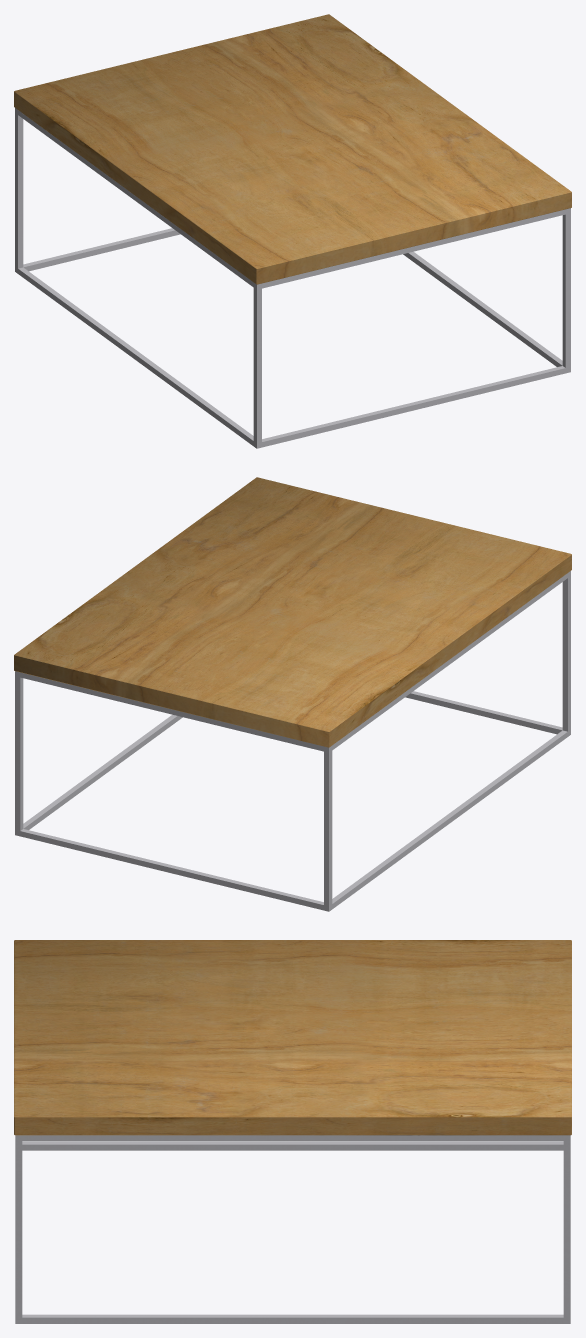
The model's file is table5.gltf.
3 renders of one model, top to bottom at view 1: azimuth 30°, elevation 25°; view 2: azimuth 150°, elevation 25°; view 3: azimuth 270°, elevation 25°, orthographic. The views are drawn at different scales.
Visible parts, largest first — view 1: Box001, Box005; view 2: Box001, Box005; view 3: Box001, Box005.
Part boxes in pixels (left/top/right/bottom): Box001: left=14, top=14, right=571, bottom=284; Box005: left=15, top=108, right=570, bottom=448; Box001: left=14, top=477, right=571, bottom=747; Box005: left=15, top=571, right=570, bottom=911; Box001: left=14, top=940, right=571, bottom=1135; Box005: left=15, top=1135, right=570, bottom=1323.
Bounding box in the file's own units: 1.22 × 0.6661 × 1.62.
2 materials, 2 textured.
